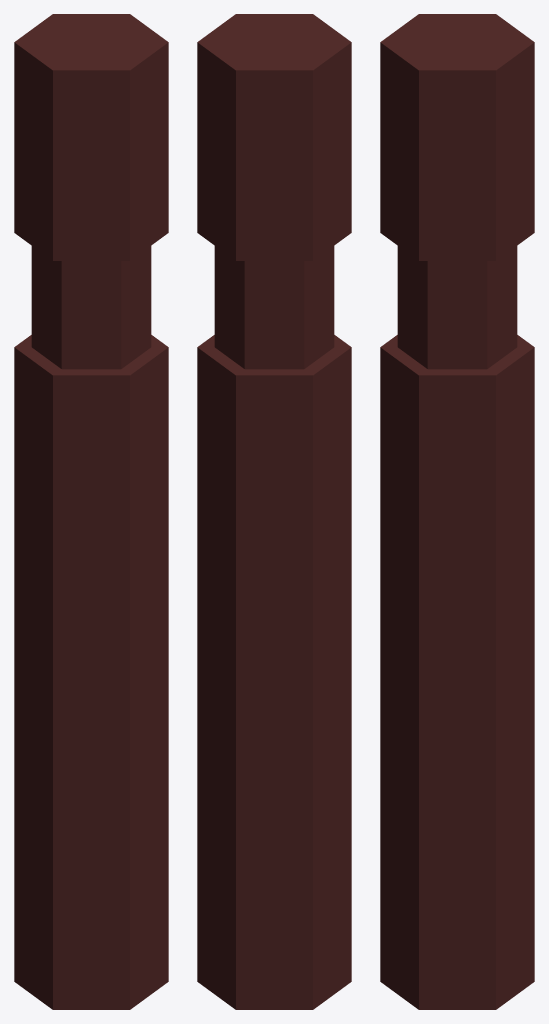
The model's file is n2_blade_trap_dark_brown_0_lev2.glb.
The picture shows the model from 3 angles, left to right: view 1: azimuth 30°, elevation 25°; view 2: azimuth 150°, elevation 25°; view 3: azimuth 270°, elevation 25°; orthographic projection.
Visible parts, largest first — view 1: n2_blade_trap_dark_brown_0_lev2; view 2: n2_blade_trap_dark_brown_0_lev2; view 3: n2_blade_trap_dark_brown_0_lev2.
Boxes of the visible parts, x1,y1,x2,y2 form: n2_blade_trap_dark_brown_0_lev2: [14, 14, 168, 1009]; n2_blade_trap_dark_brown_0_lev2: [197, 14, 351, 1009]; n2_blade_trap_dark_brown_0_lev2: [380, 14, 534, 1009].
Bounding box in the file's own units: 0.2004 × 1.55 × 0.2314.
